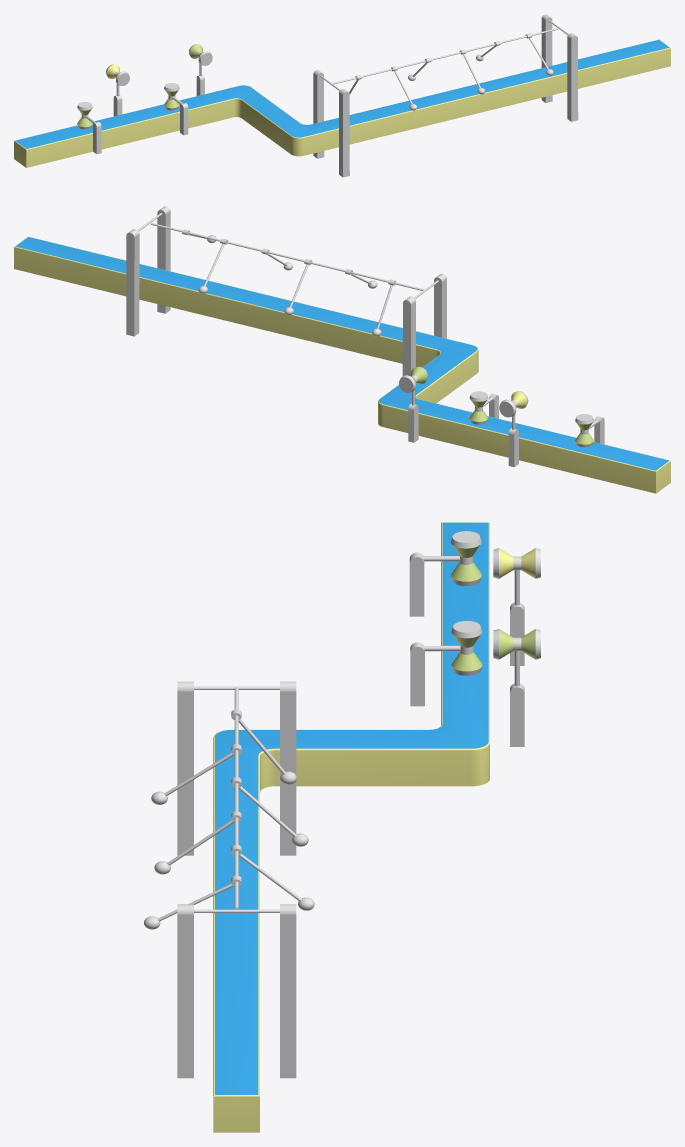
The model's file is HyperCasual_Map.fbx.
3 renders of one model, top to bottom at view 1: azimuth 30°, elevation 25°; view 2: azimuth 150°, elevation 25°; view 3: azimuth 270°, elevation 25°, orthographic. The views are drawn at different scales.
Visible parts, largest first — view 1: Cube, Cube.007, Cube.005, Cube.008, Cube.006, Cylinder.008, Cylinder.002, Cylinder.004, Cylinder, Cylinder.006, Cube.001, Cube.004; view 2: Cube, Cube.008, Cube.006, Cube.007, Cube.005, Cylinder.008, Cylinder.004, Cylinder, Cylinder.006, Cylinder.002; view 3: Cube, Cube.007, Cube.008, Cube.005, Cube.006, Cylinder, Cylinder.006, Cylinder.004, Cylinder.002, Cube.004, Cube.001, Cylinder.008 (+1 smaller).
Boxes of the visible parts, left/top/right/bottom form: Cube: left=14, top=39, right=670, bottom=167; Cube.007: left=567, top=33, right=578, bottom=121; Cube.005: left=339, top=89, right=349, bottom=177; Cube.008: left=541, top=14, right=552, bottom=102; Cube.006: left=313, top=70, right=324, bottom=158; Cylinder.008: left=332, top=28, right=557, bottom=84; Cylinder.002: left=189, top=44, right=212, bottom=65; Cylinder.004: left=106, top=64, right=129, bottom=85; Cylinder: left=164, top=83, right=179, bottom=110; Cylinder.006: left=77, top=102, right=92, bottom=129; Cube.001: left=180, top=103, right=188, bottom=135; Cube.004: left=93, top=122, right=101, bottom=154; Cube: left=14, top=236, right=670, bottom=493; Cube.008: left=126, top=229, right=139, bottom=336; Cube.006: left=402, top=296, right=415, bottom=376; Cube.007: left=157, top=206, right=170, bottom=313; Cube.005: left=434, top=273, right=446, bottom=338; Cylinder.008: left=150, top=223, right=424, bottom=290; Cylinder.004: left=499, top=391, right=528, bottom=417; Cylinder: left=469, top=391, right=488, bottom=424; Cylinder.006: left=575, top=414, right=593, bottom=447; Cylinder.002: left=399, top=366, right=427, bottom=392; Cube: left=213, top=522, right=489, bottom=1132; Cube.007: left=177, top=904, right=193, bottom=1078; Cube.008: left=280, top=904, right=296, bottom=1078; Cube.005: left=177, top=681, right=193, bottom=855; Cube.006: left=280, top=681, right=296, bottom=855; Cylinder: left=451, top=621, right=482, bottom=675; Cylinder.006: left=451, top=531, right=481, bottom=585; Cylinder.004: left=493, top=548, right=540, bottom=578; Cylinder.002: left=493, top=629, right=540, bottom=659; Cube.004: left=409, top=552, right=424, bottom=616; Cube.001: left=410, top=642, right=424, bottom=706; Cylinder.008: left=234, top=687, right=238, bottom=909.
Bounding box in the file's own units: 6650 × 918 × 1946.
